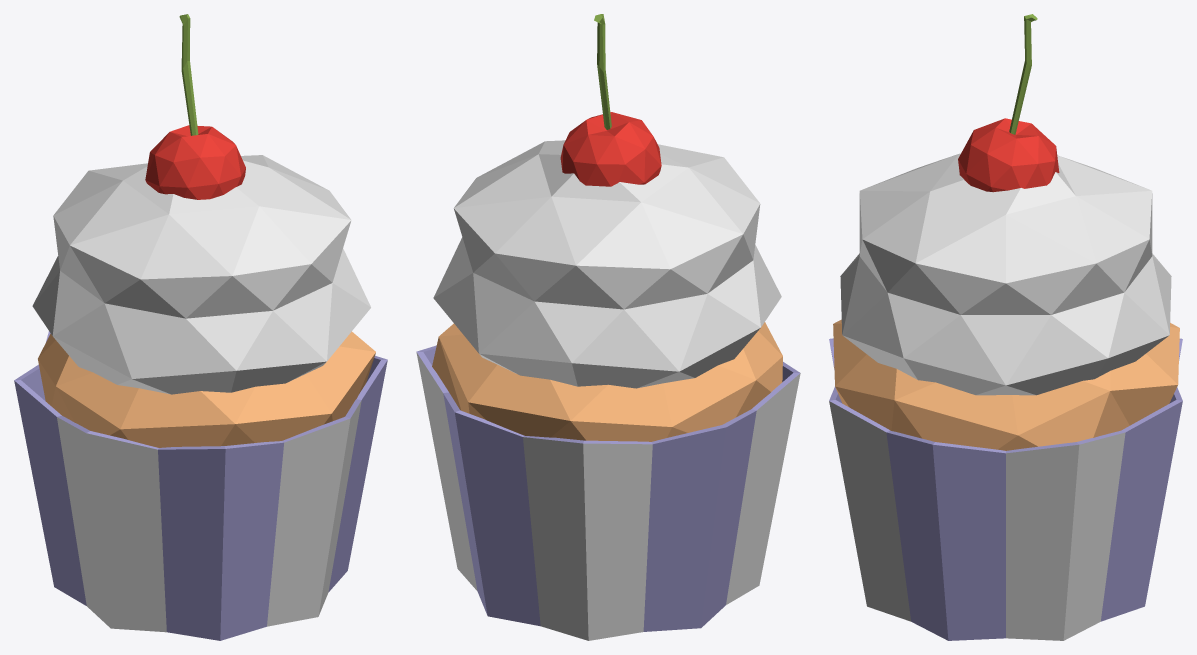
File: Cupcake_01.fbx
3 renders of one model, left to right at view 1: azimuth 30°, elevation 25°; view 2: azimuth 150°, elevation 25°; view 3: azimuth 270°, elevation 25°, orthographic. The views are drawn at different scales.
Parts seen in each view (by area): view 1: Cupcake_01; view 2: Cupcake_01; view 3: Cupcake_01.
Part boxes in pixels (<box>): Cupcake_01: <box>14,14,387,640</box>; Cupcake_01: <box>416,14,800,640</box>; Cupcake_01: <box>829,14,1182,640</box>.
Size of the model in its own units: 9.09 by 16.03 by 9.09.
